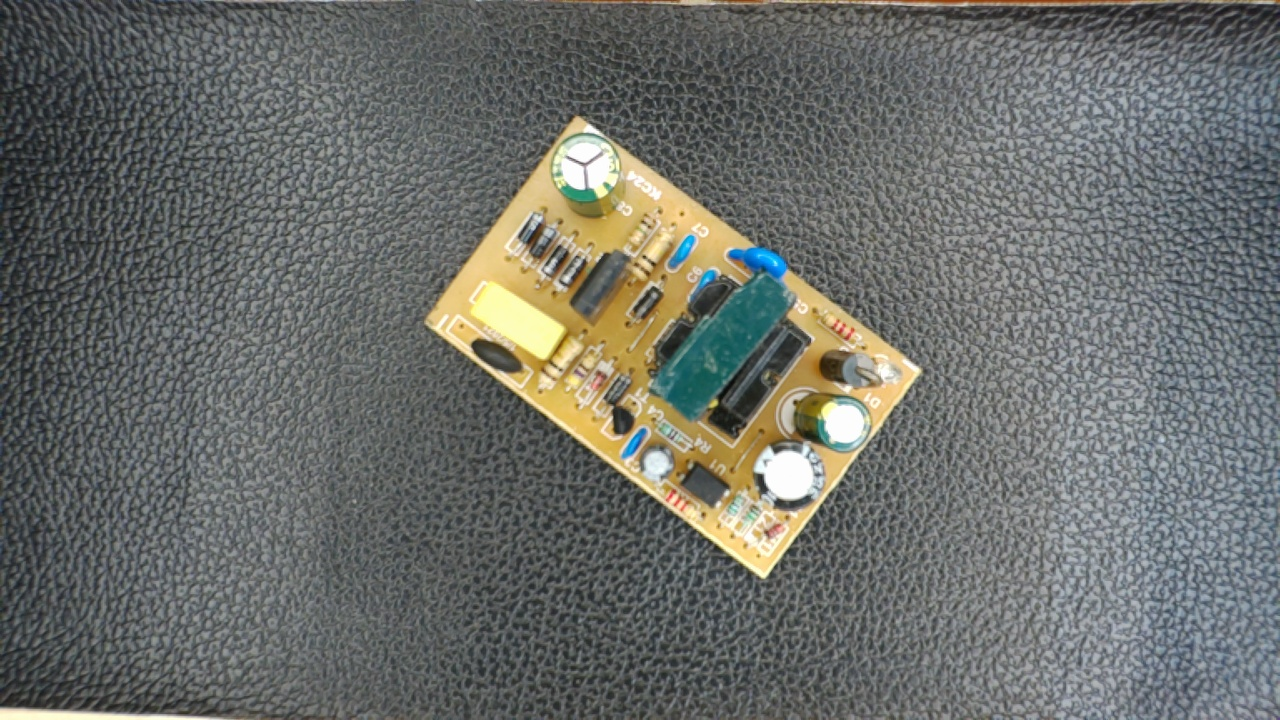fuse: (464, 332, 530, 381)
hv_capacitor: (543, 135, 638, 216)
mov: (717, 239, 791, 281)
optocoupler: (678, 459, 732, 509)
